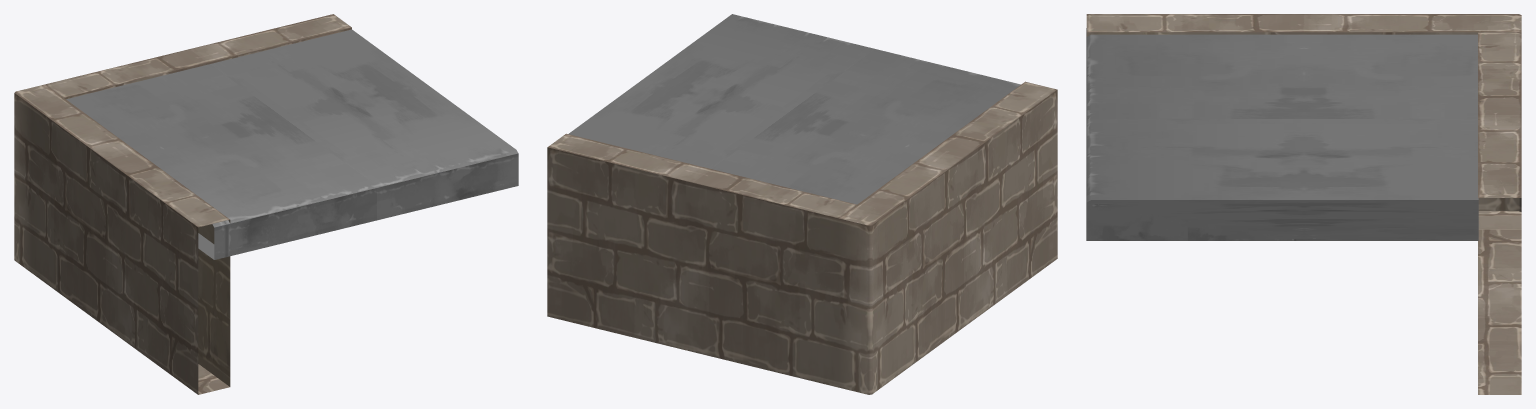
File: Stairs_Exterior_Platform45Clean.gltf
The picture shows the model from 3 angles, left to right: view 1: azimuth 30°, elevation 25°; view 2: azimuth 150°, elevation 25°; view 3: azimuth 270°, elevation 25°; orthographic projection. The views are drawn at different scales.
Parts seen in each view (by area): view 1: Stairs_Exterior_Platform45Clean; view 2: Stairs_Exterior_Platform45Clean; view 3: Stairs_Exterior_Platform45Clean.
Part boxes in pixels (x1,y1,x2,y2): Stairs_Exterior_Platform45Clean: [14, 14, 518, 394]; Stairs_Exterior_Platform45Clean: [547, 14, 1057, 394]; Stairs_Exterior_Platform45Clean: [1086, 14, 1521, 394].
Size of the model in its own units: 2 by 1 by 2.
2 materials, 2 textured.
